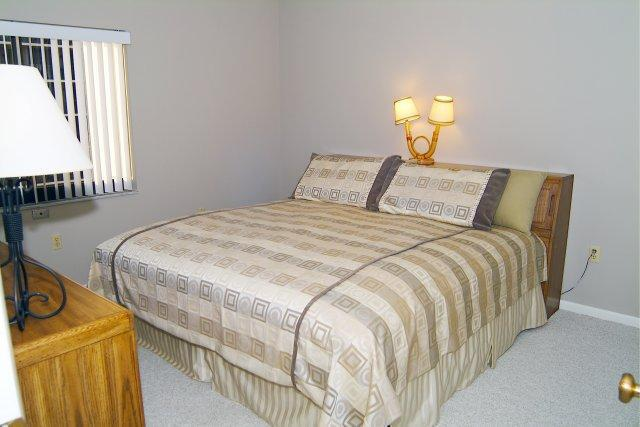Cama: (100, 170, 579, 418)
Ventana: (5, 20, 132, 195)
